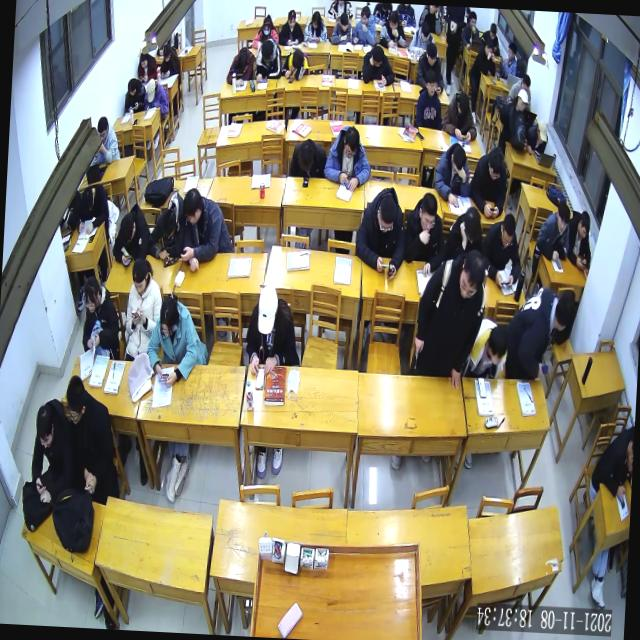bow: (502, 282, 578, 386), (462, 314, 510, 384), (111, 200, 153, 268), (148, 189, 186, 264), (532, 198, 572, 264), (76, 181, 110, 236), (289, 135, 328, 181), (360, 42, 398, 86), (254, 37, 284, 84), (226, 44, 256, 87), (252, 14, 280, 52), (281, 47, 310, 83), (408, 19, 436, 56), (526, 120, 550, 156), (330, 10, 353, 46)
down: (457, 247, 487, 302), (257, 284, 280, 337), (158, 294, 182, 340), (34, 404, 56, 452), (486, 325, 510, 368), (417, 192, 439, 236), (376, 194, 397, 236), (462, 207, 483, 246), (130, 256, 150, 296), (82, 276, 100, 315), (499, 212, 517, 250), (342, 126, 362, 160), (488, 146, 506, 182), (298, 138, 316, 173), (160, 207, 178, 242), (119, 212, 138, 245), (450, 144, 467, 177), (456, 91, 472, 121), (80, 185, 96, 214), (578, 209, 592, 241), (260, 38, 275, 64), (290, 48, 306, 72), (96, 115, 109, 143), (425, 42, 439, 68), (536, 120, 549, 146), (371, 44, 385, 68), (237, 51, 250, 76), (146, 77, 158, 104), (419, 20, 431, 44), (360, 5, 372, 28), (388, 10, 400, 31), (286, 8, 298, 28), (310, 10, 322, 30), (127, 78, 138, 98), (262, 16, 273, 36), (338, 12, 349, 32), (484, 39, 495, 59), (139, 50, 149, 70), (162, 43, 172, 63), (489, 22, 498, 40)
lookup: (64, 374, 88, 426), (556, 200, 571, 236), (423, 69, 438, 98), (516, 88, 530, 115), (507, 42, 518, 62), (470, 11, 478, 28)
sit: (407, 243, 490, 394), (60, 374, 127, 507), (244, 282, 304, 378), (144, 292, 200, 390), (177, 184, 237, 274), (354, 184, 409, 282), (29, 396, 78, 506), (123, 255, 166, 365), (400, 190, 447, 280), (80, 274, 125, 363), (588, 425, 634, 504), (322, 123, 373, 192), (480, 212, 524, 290), (467, 144, 509, 220), (432, 140, 472, 208), (442, 204, 484, 266), (441, 88, 481, 143), (414, 68, 446, 130), (566, 208, 594, 272), (92, 114, 122, 166), (416, 40, 446, 92), (378, 8, 409, 51), (469, 37, 498, 79), (352, 4, 379, 48), (142, 78, 170, 119), (278, 8, 306, 48), (124, 76, 147, 116), (159, 42, 182, 81), (497, 40, 519, 80), (304, 10, 328, 46), (462, 10, 482, 49), (137, 50, 159, 83), (483, 20, 502, 56)
